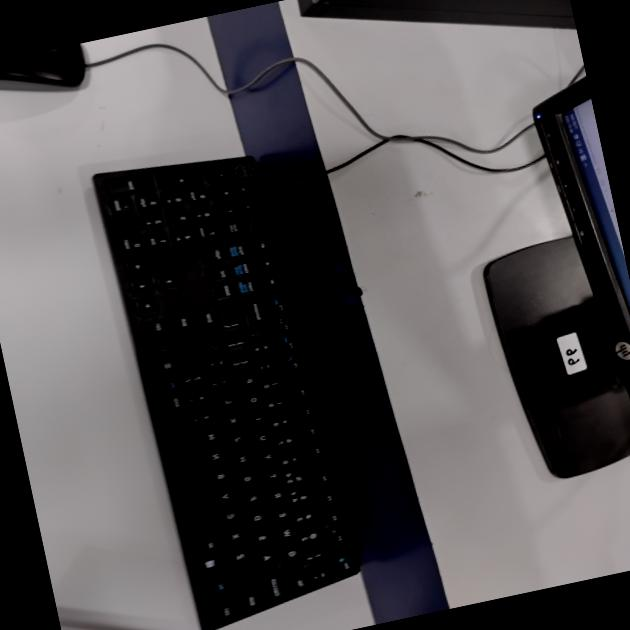keyboard: (63, 118, 394, 630)
mouse: (0, 27, 167, 133)
